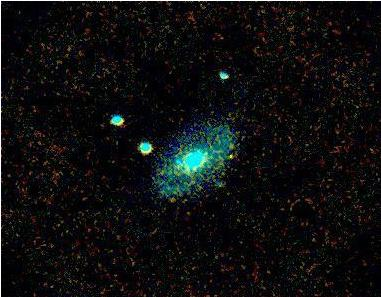star: (215, 140, 245, 170)
